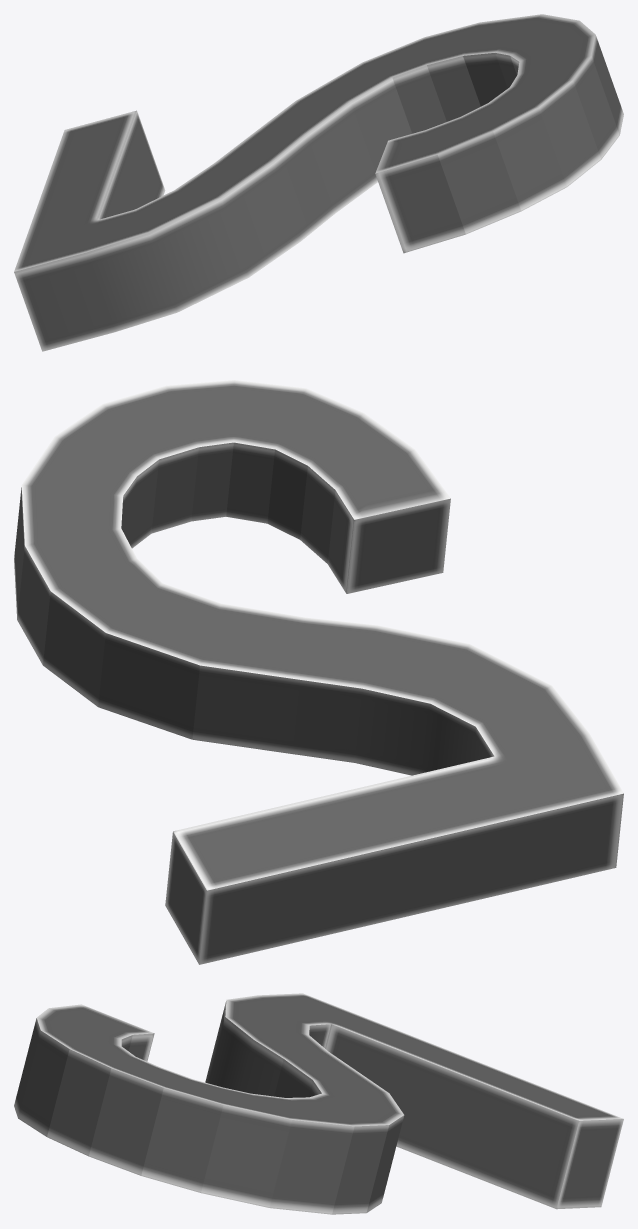
3 views of the same model, one above another, from view 1: azimuth 30°, elevation 25°; view 2: azimuth 150°, elevation 25°; view 3: azimuth 270°, elevation 25° (orthographic). The views are drawn at different scales.
Parts seen in each view (by area): view 1: Box002; view 2: Box002; view 3: Box002.
Part boxes in pixels (x1,y1,x2,y2): Box002: (14,14,623,351); Box002: (14,380,623,964); Box002: (14,993,623,1214).
Bounding box in the file's own units: 22.55 × 10.35 × 20.96.
